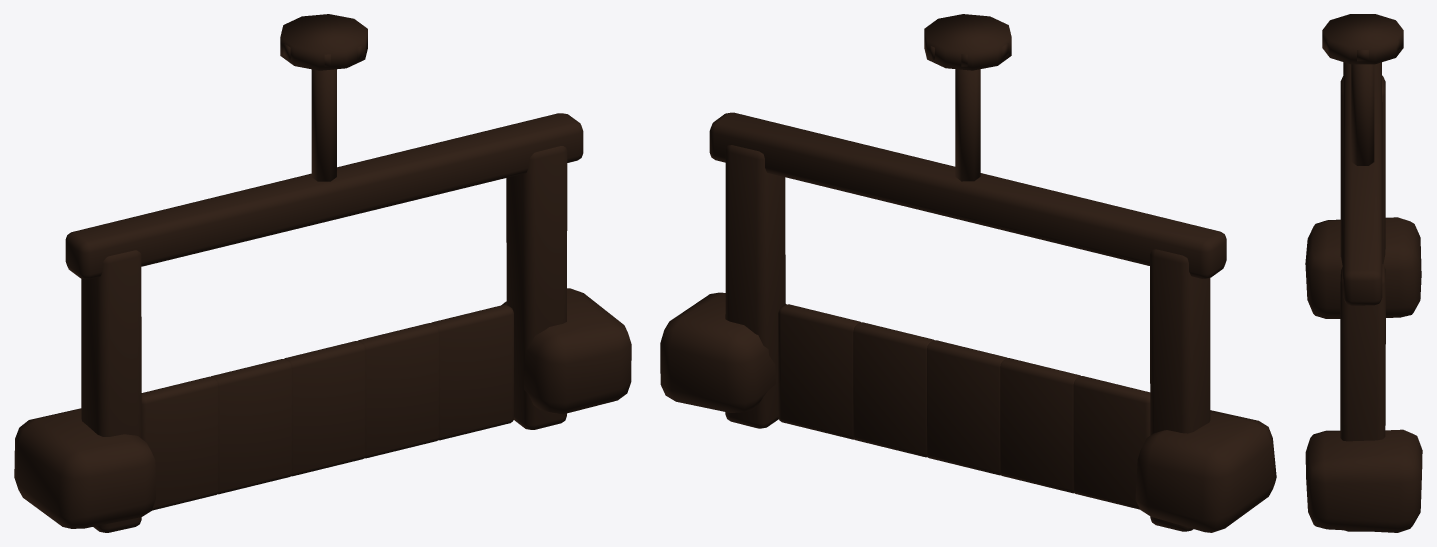
File: sluice.glb
3 views of the same model, side by side, from view 1: azimuth 30°, elevation 25°; view 2: azimuth 150°, elevation 25°; view 3: azimuth 270°, elevation 25° (orthographic). The views are drawn at different scales.
Visible parts, largest first — view 1: sluice_outline; view 2: sluice_outline; view 3: sluice_outline.
Boxes of the visible parts, x1,y1,x2,y2 form: sluice_outline: [14, 14, 631, 532]; sluice_outline: [660, 14, 1276, 532]; sluice_outline: [1305, 14, 1422, 532].
Bounding box in the file's own units: 3.9 × 2.86 × 0.7577.
